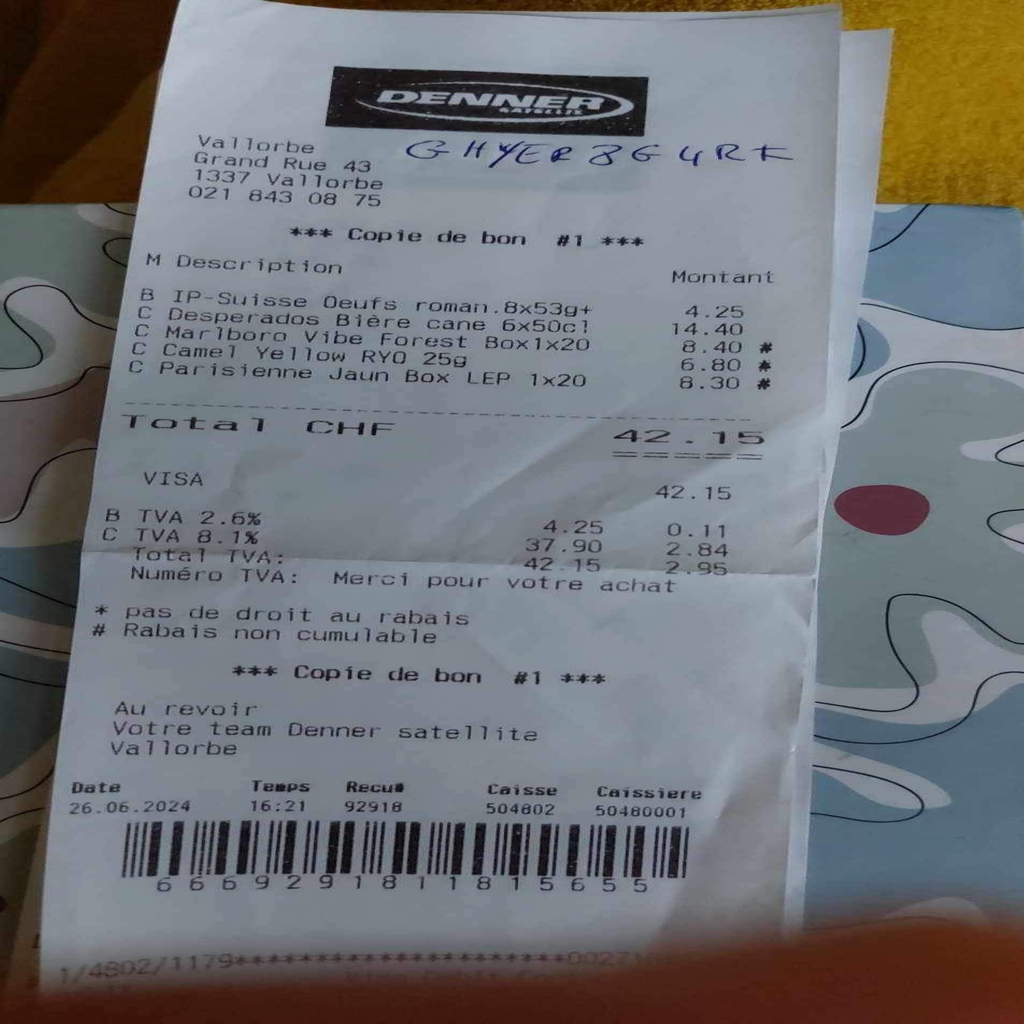recipt: (42, 0, 837, 990)
